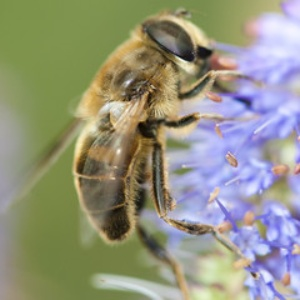bee: (68, 8, 232, 255)
